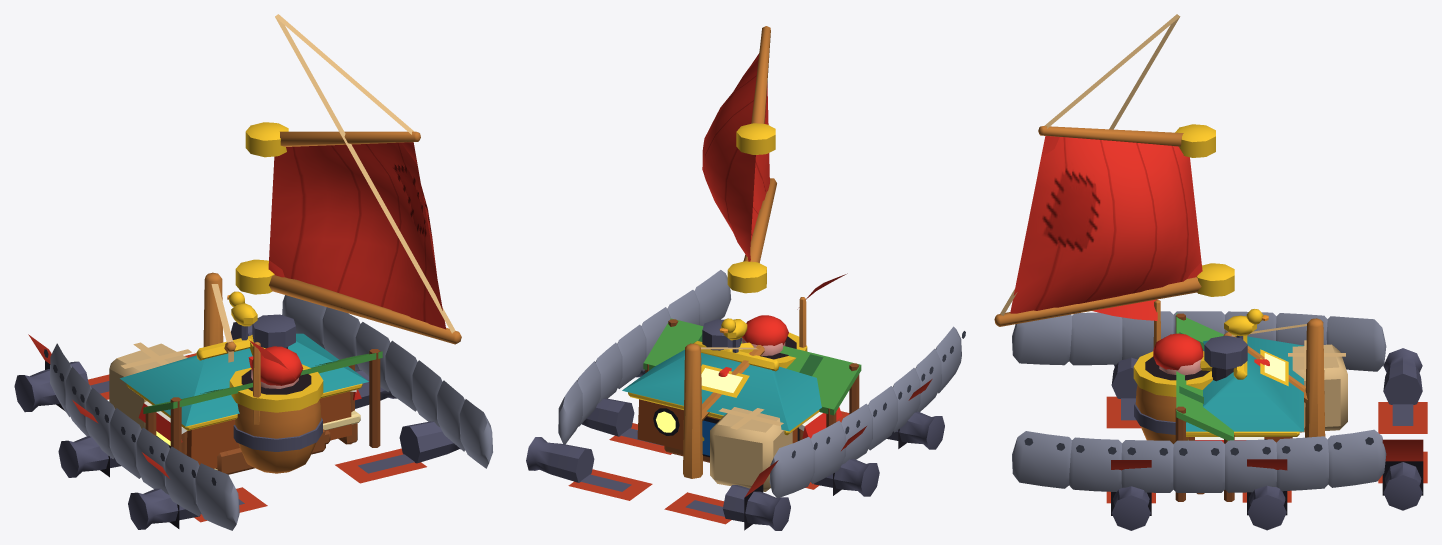
The model's file is modules_anime_sloop.glb.
3 views of the same model, side by side, from view 1: azimuth 30°, elevation 25°; view 2: azimuth 150°, elevation 25°; view 3: azimuth 270°, elevation 25° (orthographic). The views are drawn at different scales.
Parts seen in each view (by area): view 1: GaffSail, Plating, Quarters, GunDeck, RiggingSpars, CrowsNest, CargoHold, Workshop, Galley, Infirmary; view 2: Plating, GunDeck, Quarters, CargoHold, GaffSail, Workshop, RiggingSpars, CrowsNest, Galley, Infirmary; view 3: Plating, GaffSail, GunDeck, Quarters, RiggingSpars, CrowsNest, CargoHold, Workshop, Galley.
Boxes of the visible parts, box(x1,y1,x2,y2) form: GaffSail: box(268, 142, 446, 329); Plating: box(44, 295, 492, 530); Quarters: box(120, 291, 368, 468); GunDeck: box(14, 322, 460, 529); RiggingSpars: box(235, 14, 461, 344); CrowsNest: box(229, 335, 323, 473); CargoHold: box(109, 272, 325, 474); Workshop: box(143, 349, 382, 470); Galley: box(252, 314, 295, 348); Infirmary: box(138, 356, 361, 454); Plating: box(558, 270, 965, 498); GunDeck: box(526, 370, 944, 530); Quarters: box(622, 318, 821, 457); CargoHold: box(664, 343, 792, 491); GaffSail: box(702, 53, 769, 261); Workshop: box(643, 318, 861, 427); RiggingSpars: box(727, 26, 776, 293); CrowsNest: box(724, 273, 847, 368); Galley: box(702, 319, 741, 350); Infirmary: box(718, 352, 842, 440); Plating: box(1012, 311, 1386, 492); GaffSail: box(1010, 136, 1202, 313); GunDeck: box(1106, 348, 1427, 530); Quarters: box(1186, 309, 1303, 442); RiggingSpars: box(994, 14, 1234, 326); CrowsNest: box(1092, 299, 1212, 443); CargoHold: box(1223, 318, 1347, 437); Workshop: box(1175, 313, 1234, 501); Galley: box(1204, 335, 1247, 381).
Size of the model in its own units: 1.39 by 1.85 by 1.65.
5 materials, 2 textured.
